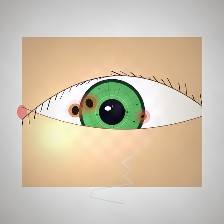foreign_body_visible: (92, 127, 109, 140)
